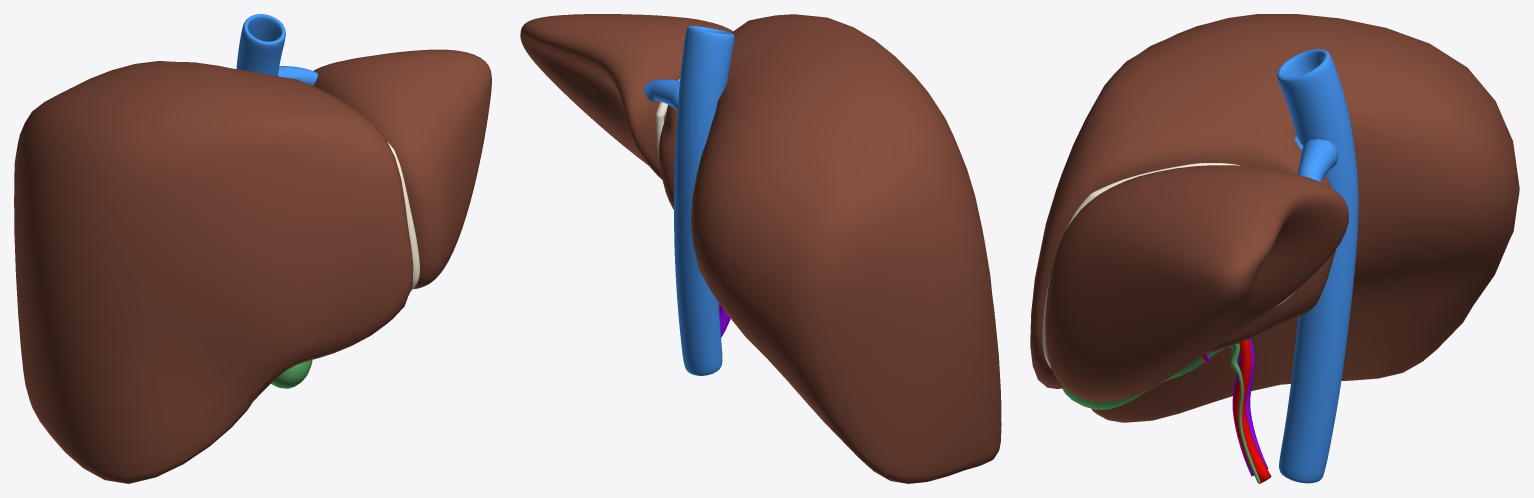
Rendered from liver.glb.
3 views of the same model, side by side, from view 1: azimuth 30°, elevation 25°; view 2: azimuth 150°, elevation 25°; view 3: azimuth 270°, elevation 25° (orthographic). The views are drawn at different scales.
Parts seen in each view (by area): view 1: Liver_right001, Liver_left001, Aorta001, Verbinding001, Galblaas001, Aftakking001; view 2: Liver_right001, Liver_left001, Aorta001, Aftakking001; view 3: Liver_right001, Liver_left001, Aorta001, Loft041, Galblaas001, Aftakking001, Verbinding001, Loft003.
Boxes of the visible parts, x1,y1,x2,y2 form: Liver_right001: [14, 61, 413, 483]; Liver_left001: [313, 49, 491, 288]; Aorta001: [236, 14, 285, 76]; Verbinding001: [387, 142, 419, 290]; Galblaas001: [271, 360, 312, 388]; Aftakking001: [278, 66, 317, 85]; Liver_right001: [658, 14, 1001, 483]; Liver_left001: [520, 14, 732, 179]; Aorta001: [674, 25, 734, 375]; Aftakking001: [644, 79, 679, 110]; Liver_right001: [1030, 14, 1519, 422]; Liver_left001: [1045, 165, 1348, 401]; Aorta001: [1277, 49, 1358, 483]; Loft041: [1233, 339, 1271, 483]; Galblaas001: [1062, 343, 1260, 482]; Aftakking001: [1297, 139, 1338, 182]; Verbinding001: [1042, 163, 1295, 367]; Loft003: [1232, 338, 1268, 476].
Size of the model in its own units: 19.06 by 15.8 by 14.18.
